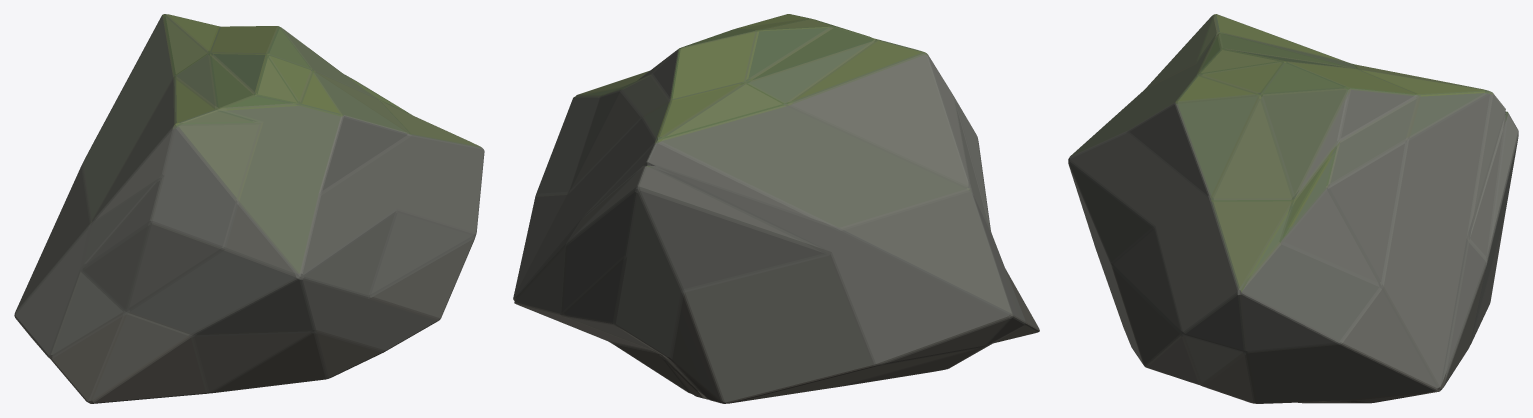
The model's file is rock_b.glb.
3 renders of one model, left to right at view 1: azimuth 30°, elevation 25°; view 2: azimuth 150°, elevation 25°; view 3: azimuth 270°, elevation 25°, orthographic. The views are drawn at different scales.
Parts seen in each view (by area): view 1: rock_b; view 2: rock_b; view 3: rock_b.
Part boxes in pixels (x1,y1,x2,y2): rock_b: (14,14,484,403); rock_b: (513,14,1039,403); rock_b: (1068,14,1518,403).
Bounding box in the file's own units: 1.82 × 1.06 × 1.55.
